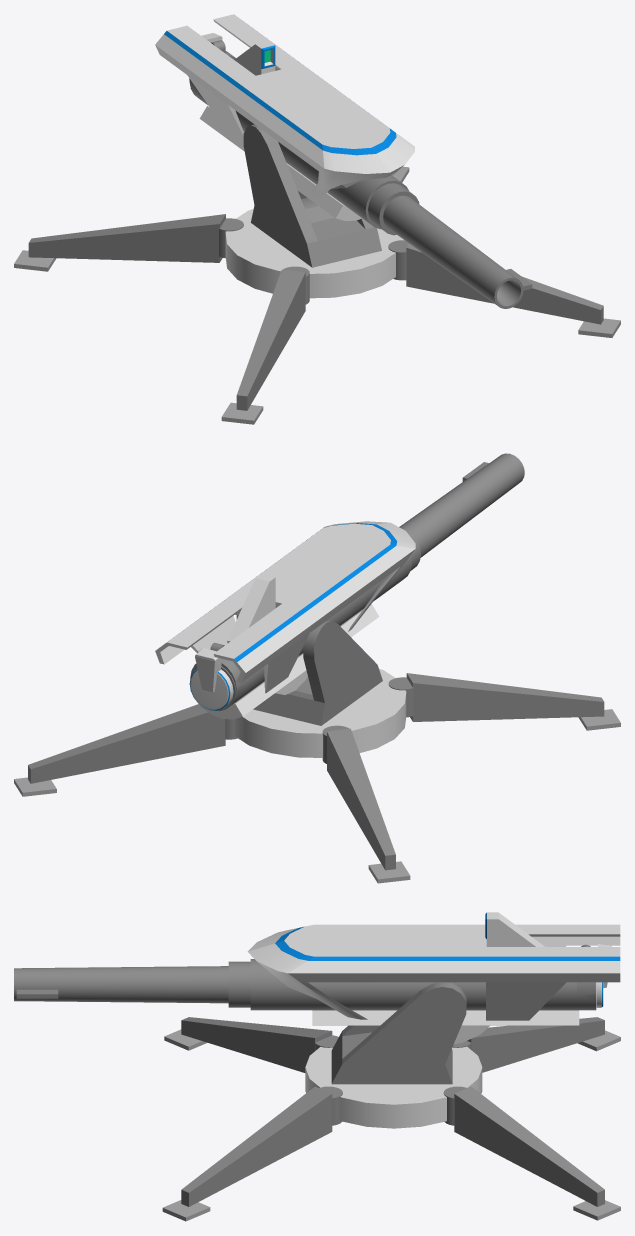
File: Cannon_fixed_2.fbx
3 views of the same model, one above another, from view 1: azimuth 30°, elevation 25°; view 2: azimuth 150°, elevation 25°; view 3: azimuth 270°, elevation 25° (orthographic). The views are drawn at different scales.
Visible parts, largest first — view 1: pCylinder61, pCube4, pCylinder56, pCube17, pCube15, pCube18, pCube19, pCube16; view 2: pCylinder61, pCube13, pCube18, pCylinder56, pCube4, pCube17, pCube20, pCube14; view 3: pCylinder61, pCube4, pCylinder56, pCube13, pCube15, pCube18, pCube17, pCube16, pCube14, pCube19, pCube20.
Part boxes in pixels (box(x1,y1,x2,y2)): pCylinder61: box(155, 14, 532, 308); pCube4: box(243, 124, 381, 267); pCylinder56: box(225, 209, 404, 298); pCube17: box(28, 214, 225, 262); pCube15: box(406, 243, 603, 324); pCube18: box(236, 269, 305, 410); pCube19: box(221, 402, 263, 424); pCube16: box(578, 318, 620, 337); pCylinder61: box(155, 453, 524, 719); pCube13: box(28, 704, 225, 783); pCube18: box(406, 673, 604, 721); pCylinder56: box(235, 668, 406, 757); pCube4: box(253, 620, 382, 725); pCube17: box(327, 728, 395, 870); pCube20: box(368, 861, 410, 883); pCube14: box(14, 777, 56, 796); pCylinder61: box(14, 912, 620, 1043); pCube4: box(331, 982, 466, 1084); pCylinder56: box(305, 1046, 482, 1128); pCube13: box(454, 1086, 604, 1206); pCube15: box(181, 1086, 332, 1206); pCube18: box(181, 1017, 332, 1072); pCube17: box(467, 1017, 604, 1072); pCube16: box(162, 1200, 210, 1221); pCube14: box(573, 1200, 620, 1220); pCube19: box(164, 1029, 207, 1050); pCube20: box(577, 1030, 620, 1051).
Bounding box in the file's own units: 159 × 81.72 × 214.
